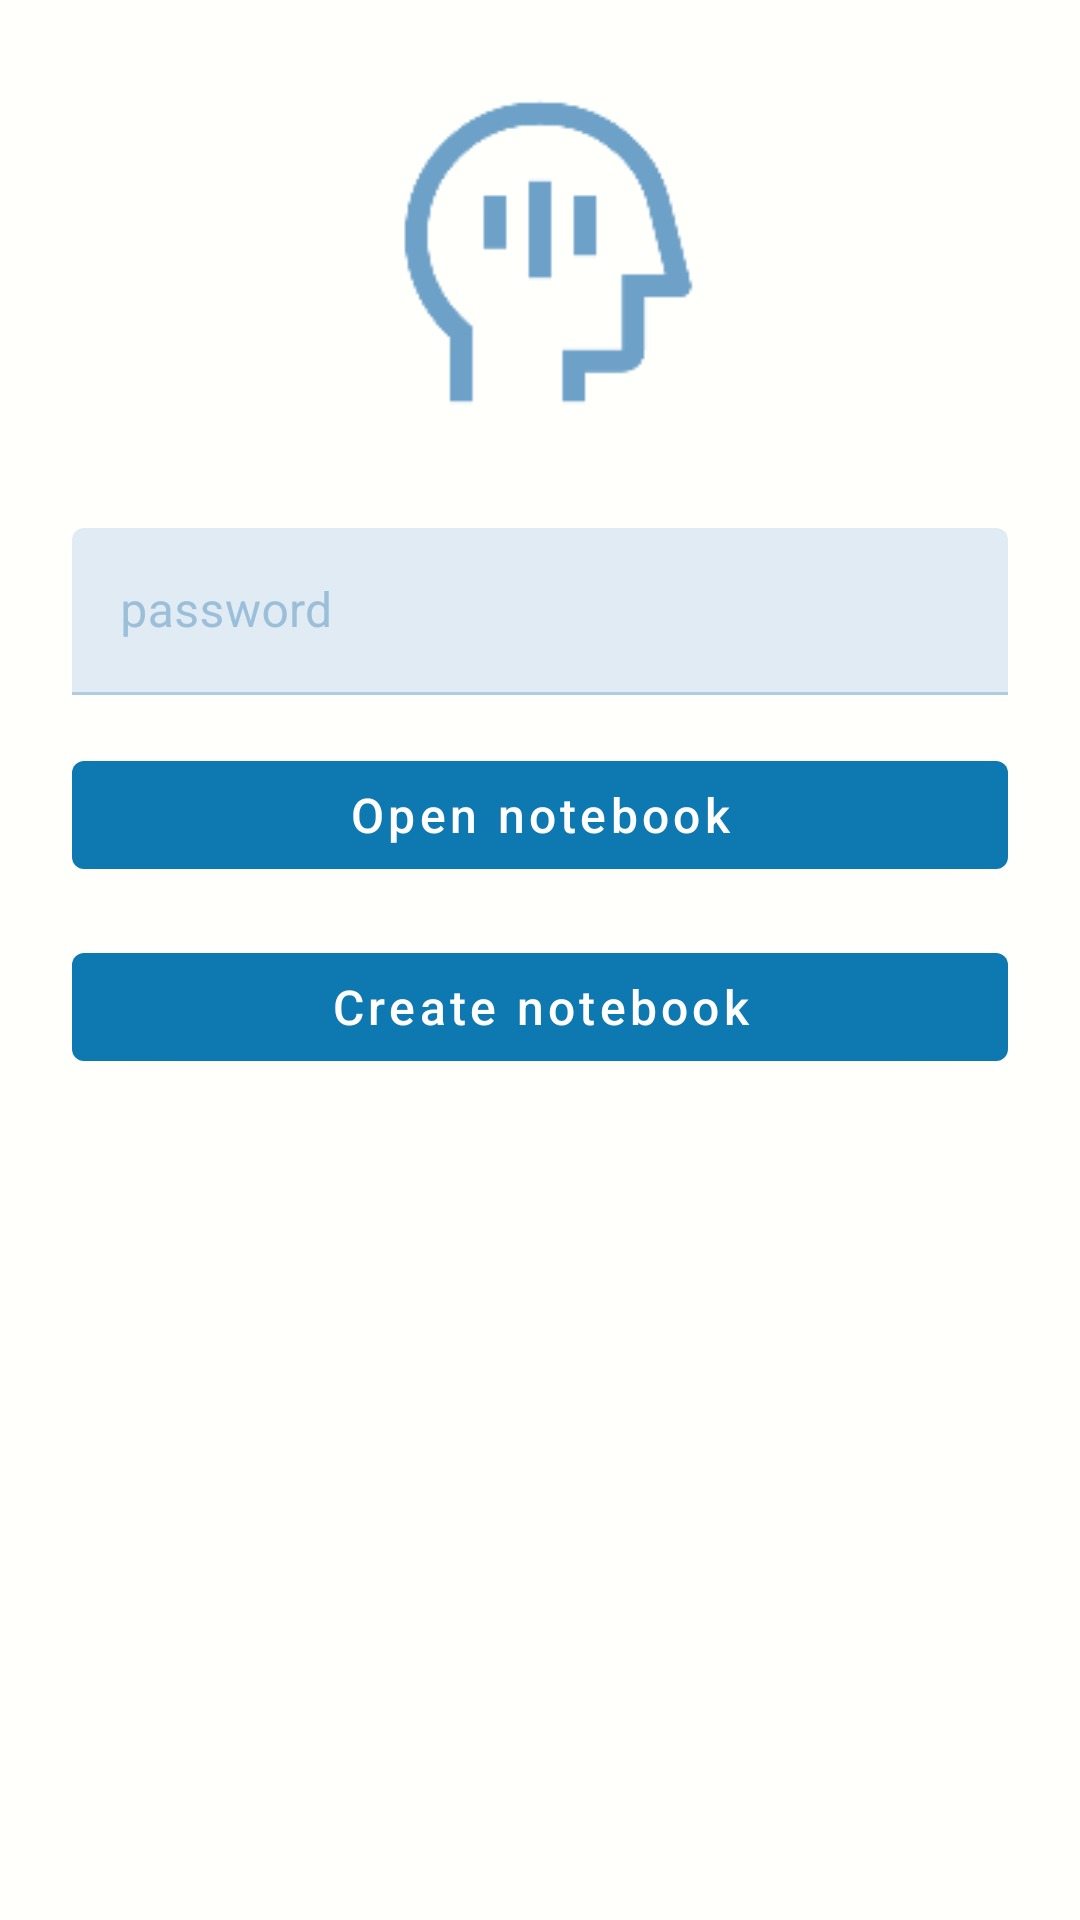

Locate icon controls on the screen. Image size 1080px x 1920px, boxes as (x1, y1, x2, y2).
head: (404, 102, 693, 402)
